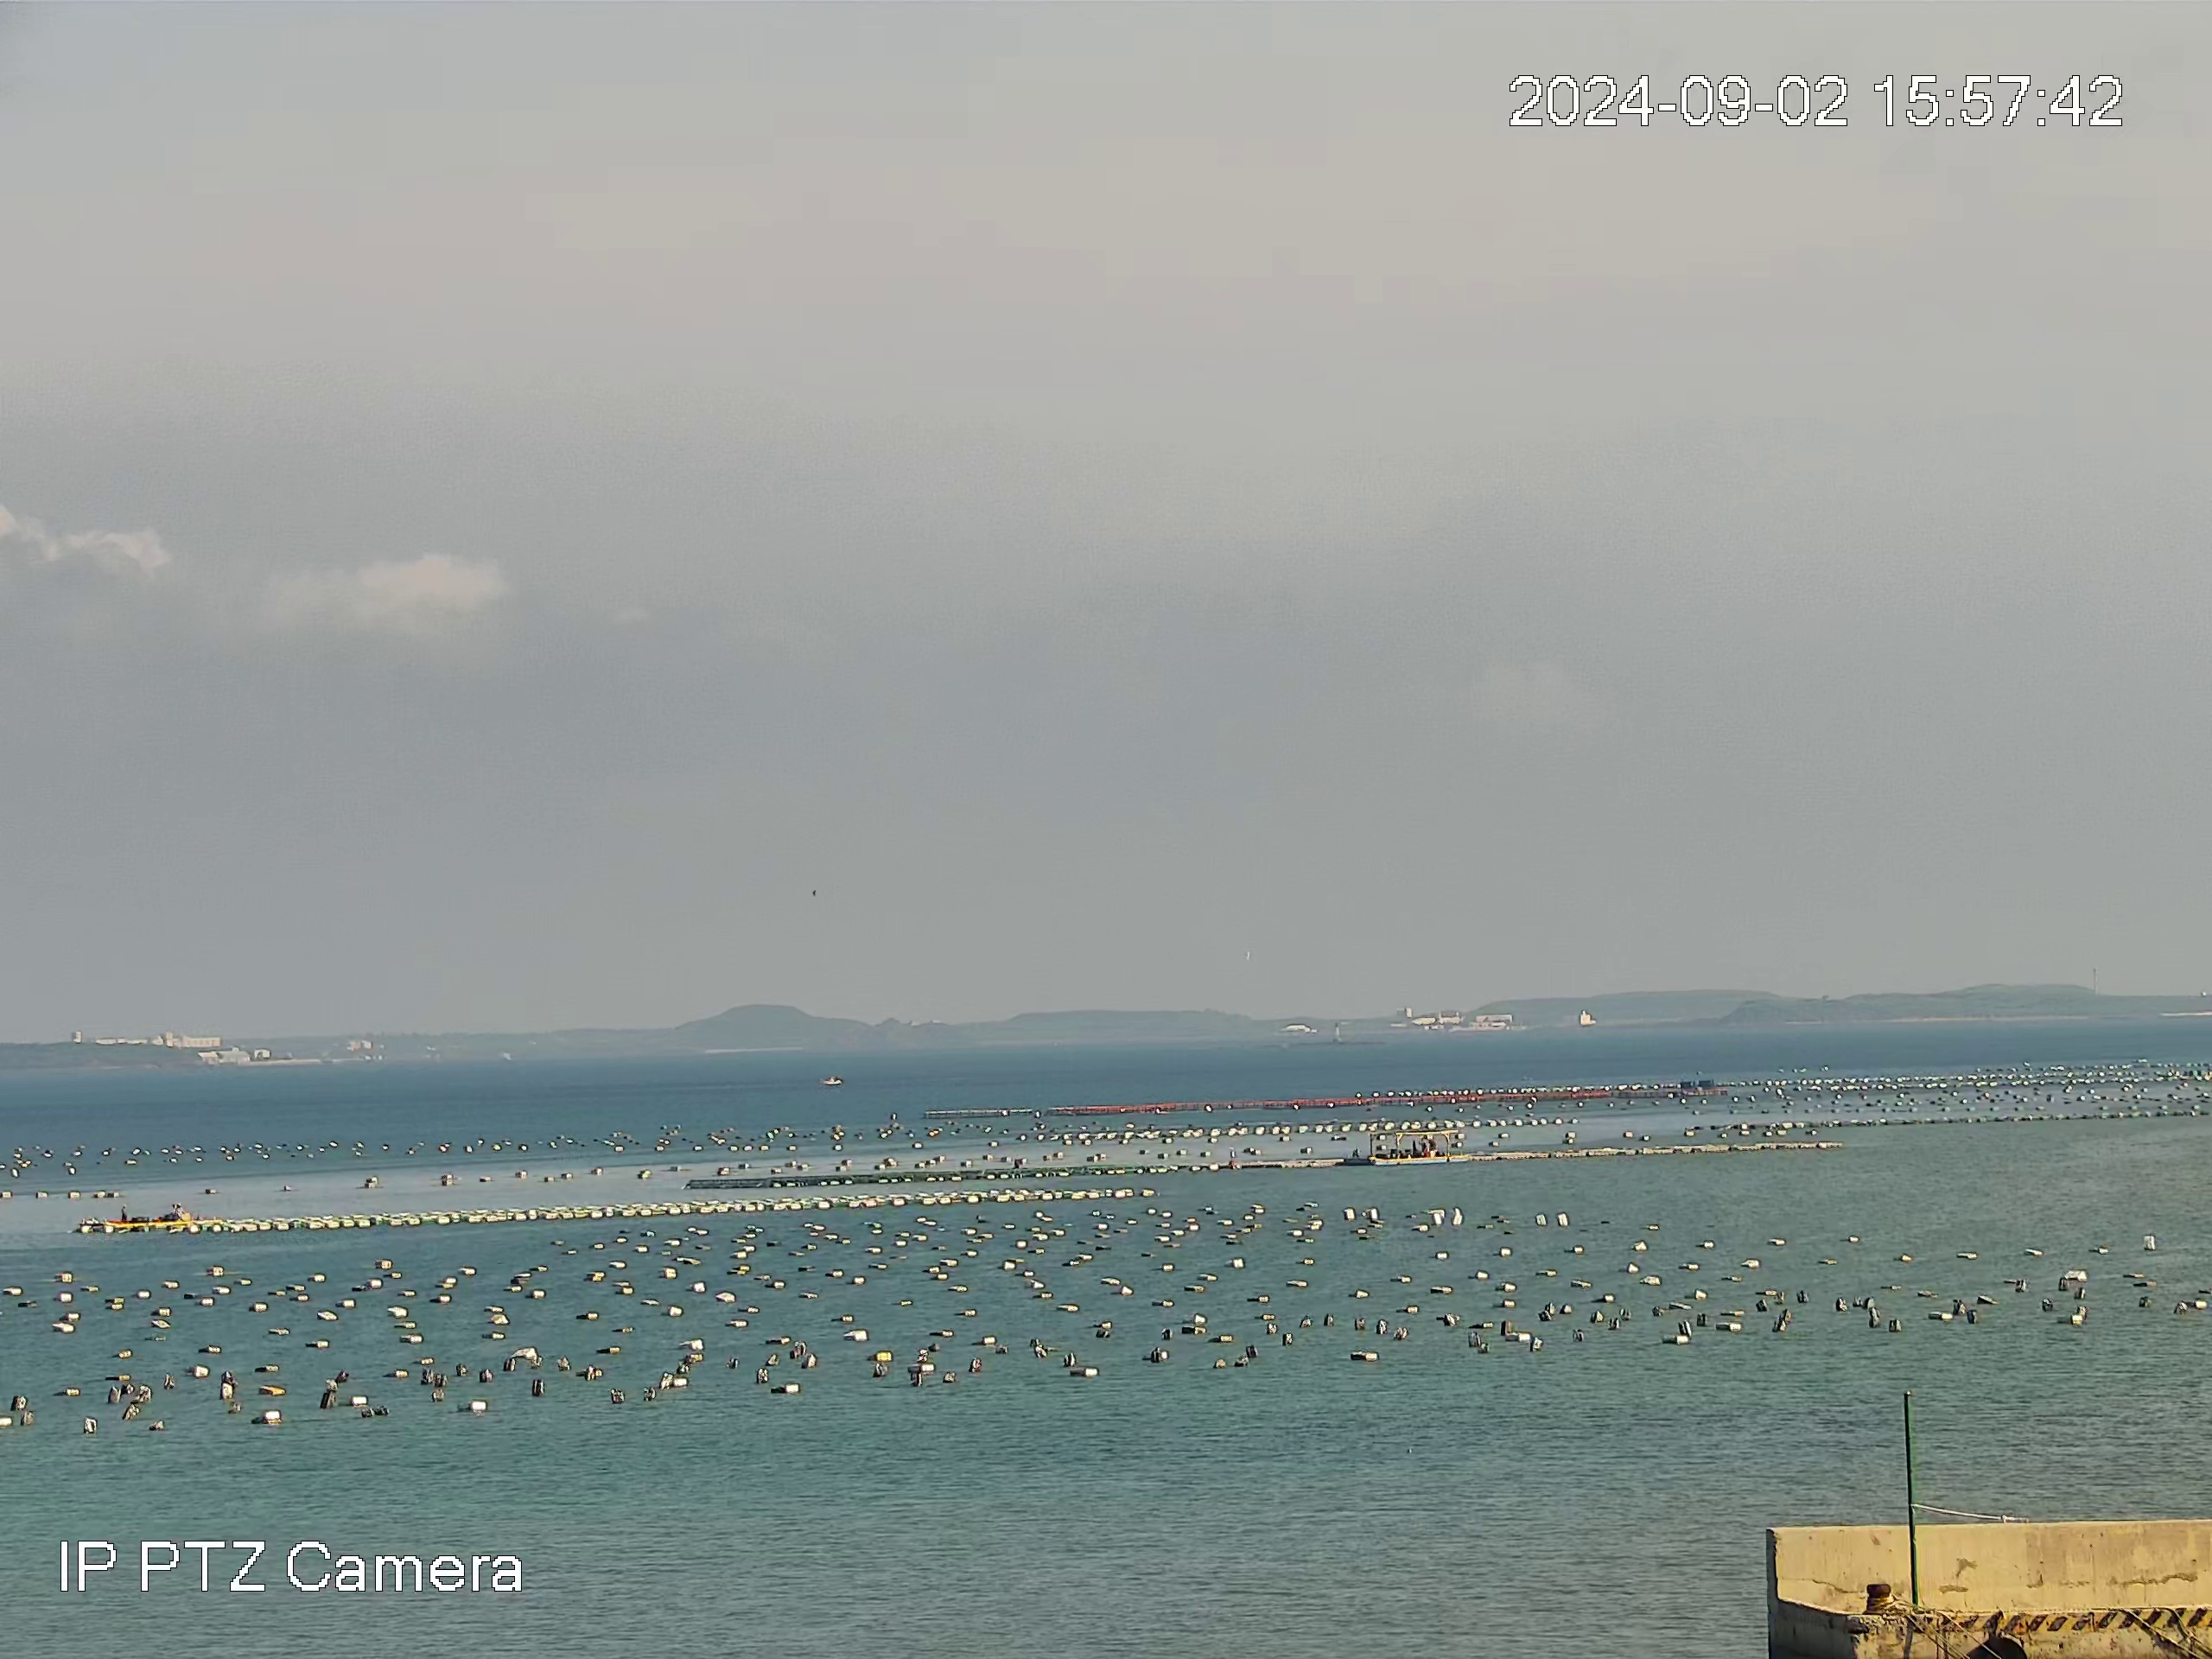boat: (1366, 1128, 1472, 1167), (101, 1202, 225, 1226), (821, 1075, 844, 1088)
